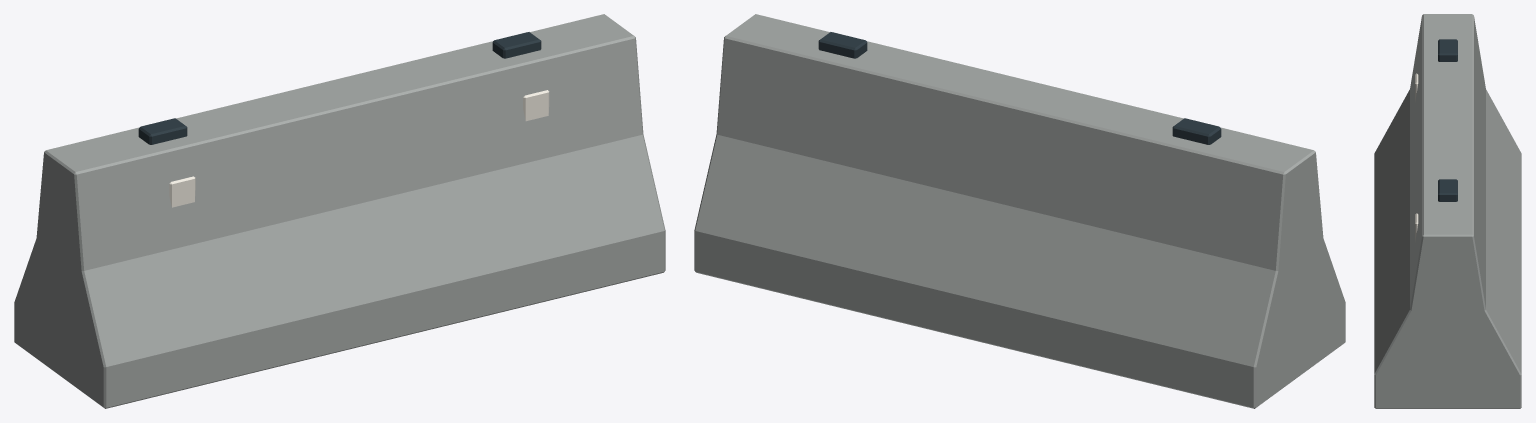
File: b02_concrete_jersey_barrier.glb
3 renders of one model, left to right at view 1: azimuth 30°, elevation 25°; view 2: azimuth 150°, elevation 25°; view 3: azimuth 270°, elevation 25°, orthographic. The views are drawn at different scales.
Visible parts, largest first — view 1: b02_concrete_jersey_barrier; view 2: b02_concrete_jersey_barrier; view 3: b02_concrete_jersey_barrier.
Boxes of the visible parts, box(x1,y1,x2,y2) form: b02_concrete_jersey_barrier: box(14, 14, 665, 408); b02_concrete_jersey_barrier: box(694, 14, 1345, 408); b02_concrete_jersey_barrier: box(1374, 14, 1521, 408).
Size of the model in its own units: 2.35 by 0.9 by 0.66.
